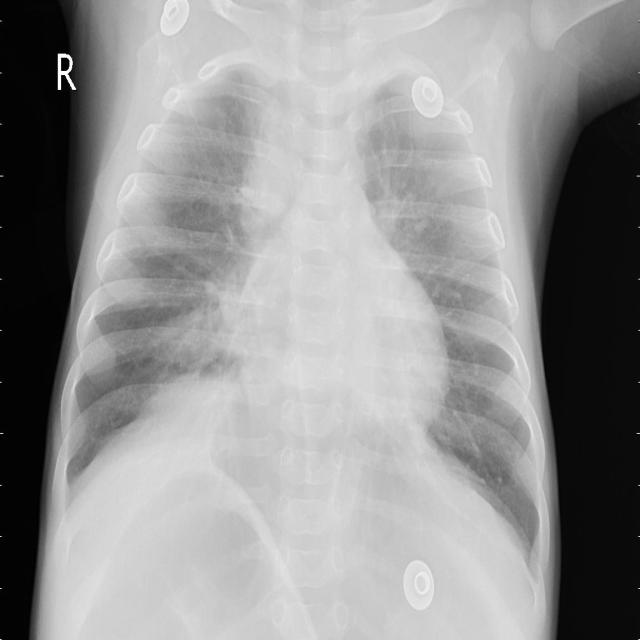low-pneumonia: (149, 253, 254, 374), (371, 151, 456, 287), (166, 48, 253, 146)
